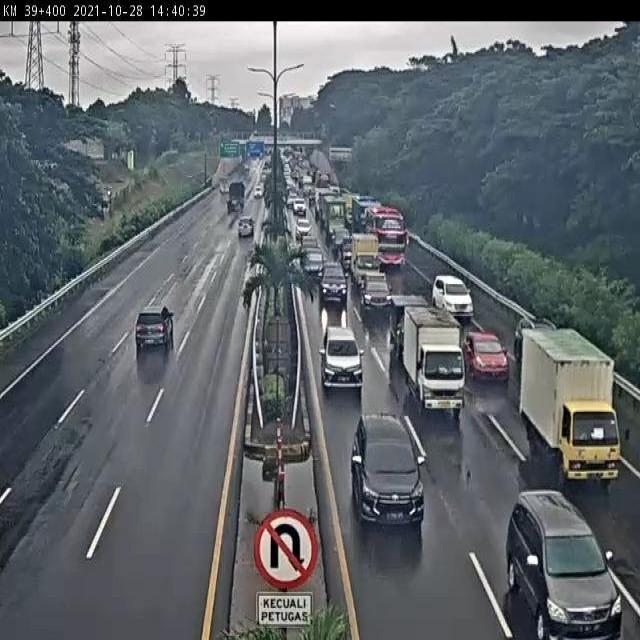mid truck: (518, 321, 635, 499)
